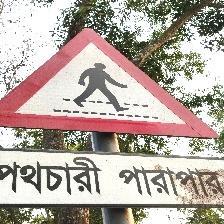Pedestrian-crossing: (1, 26, 220, 221)
